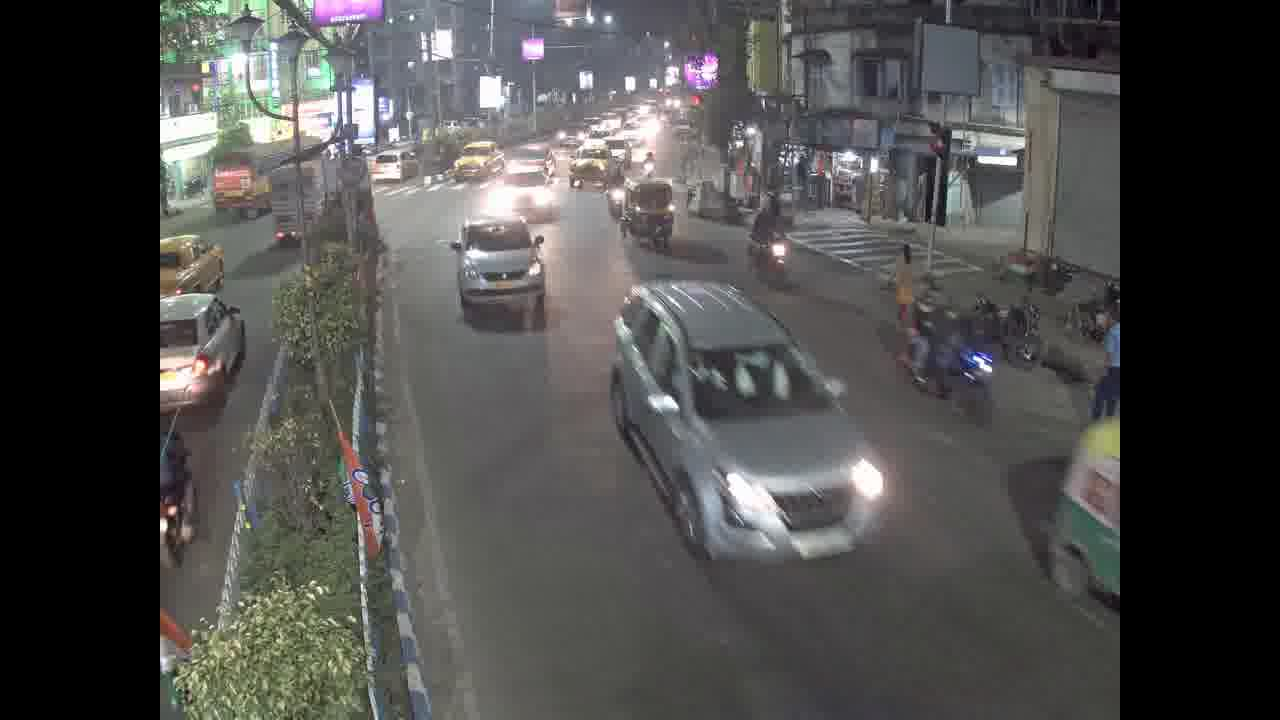auto-rickshaw: (622, 179, 676, 248)
bike: (885, 323, 996, 431), (741, 237, 830, 298)
car: (604, 284, 894, 563), (446, 221, 554, 310), (157, 297, 241, 408), (157, 225, 228, 294), (570, 143, 619, 191), (444, 139, 490, 181), (502, 173, 552, 208)
